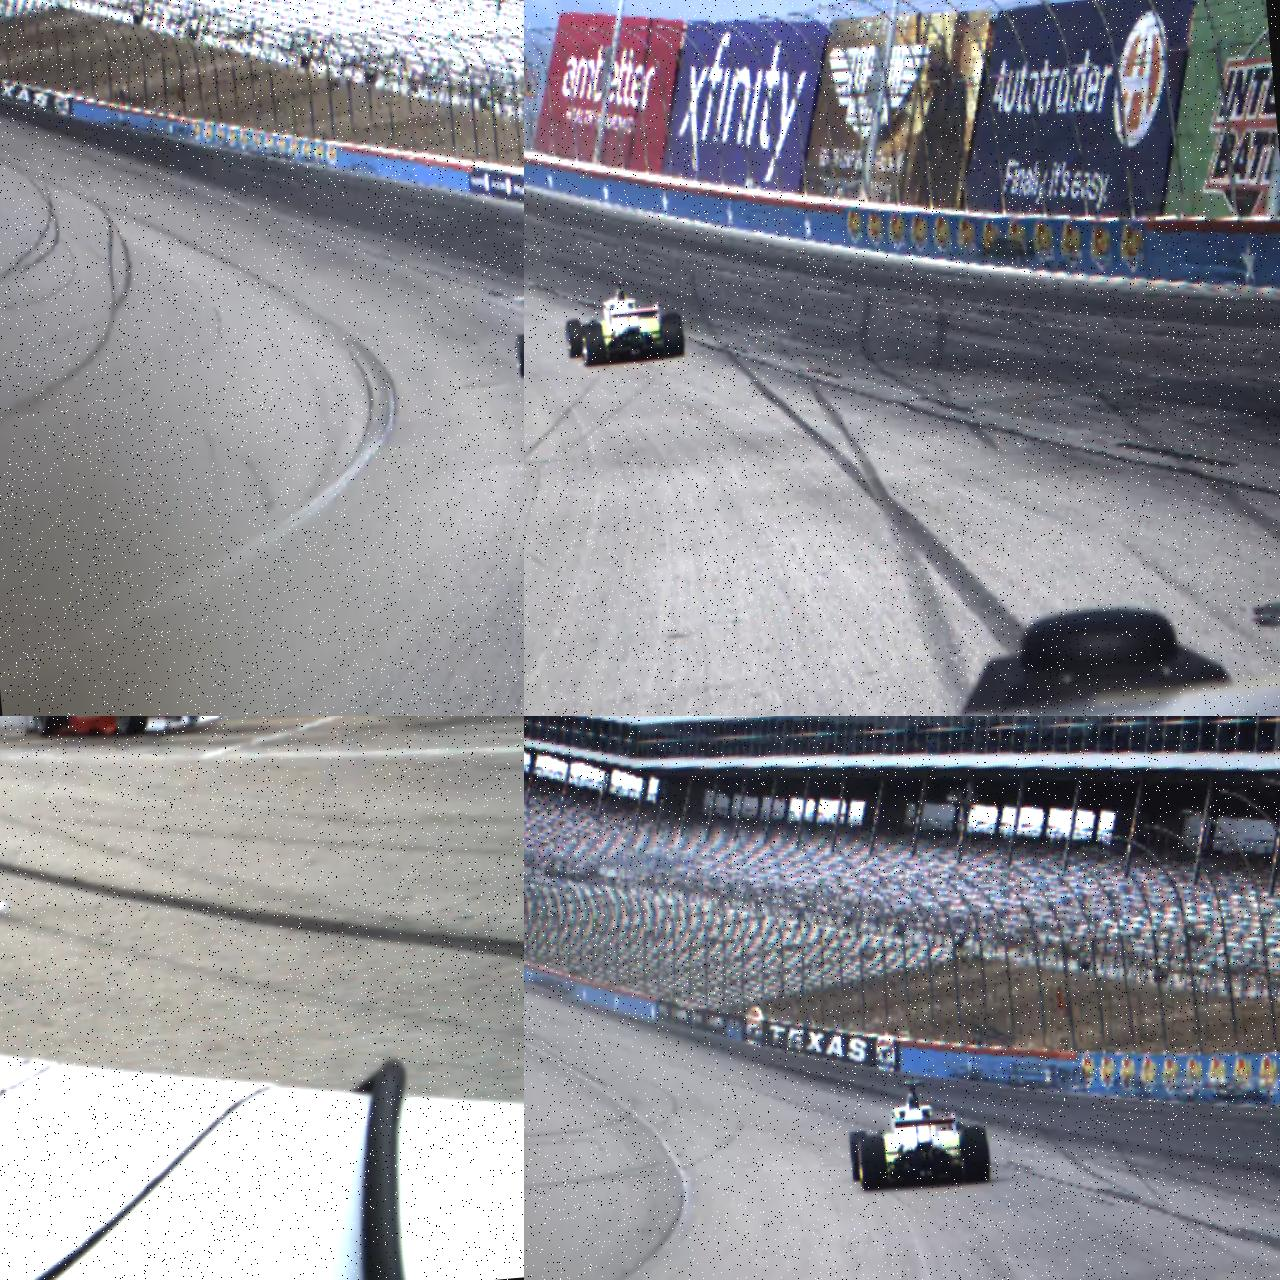AV: (844, 1074, 992, 1193), (560, 274, 687, 370), (29, 716, 229, 744)
Wheel: (960, 1124, 992, 1183), (858, 1135, 888, 1192), (660, 312, 685, 358), (849, 1131, 871, 1182), (581, 322, 606, 367), (565, 318, 585, 359), (32, 716, 66, 738), (113, 716, 147, 736), (515, 334, 524, 379)
